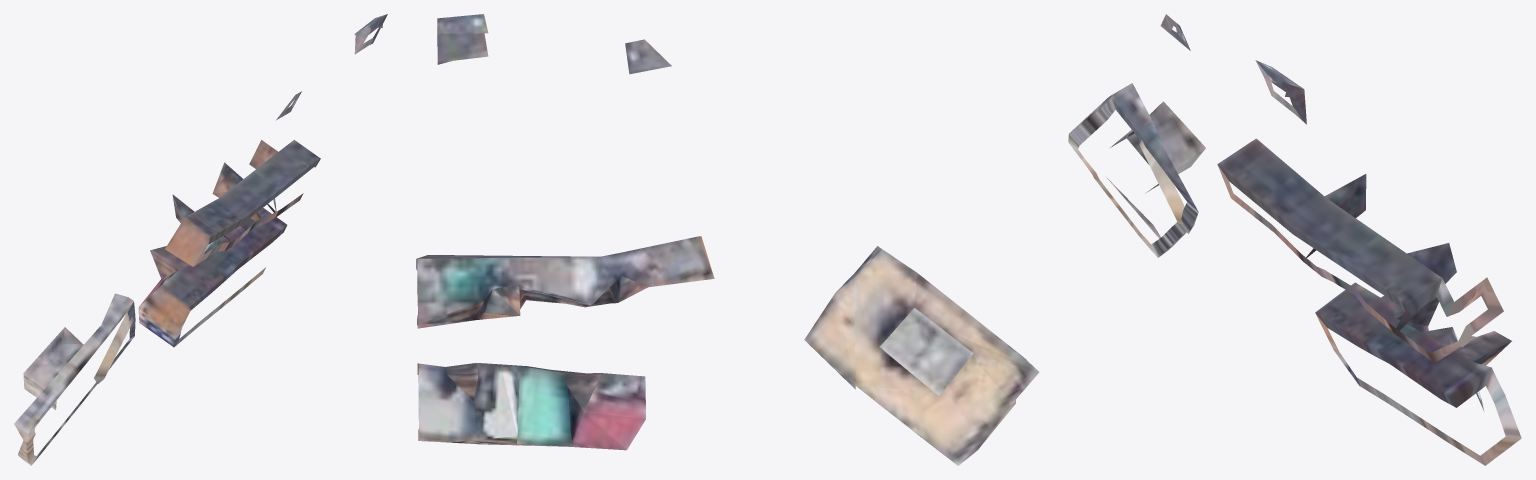
3 views of the same model, side by side, from view 1: azimuth 30°, elevation 25°; view 2: azimuth 150°, elevation 25°; view 3: azimuth 270°, elevation 25° (orthographic). The views are drawn at different scales.
Bounding box in the file's own units: 94.84 × 65.65 × 59.42.
Materials: 1 (1 with a texture image).
